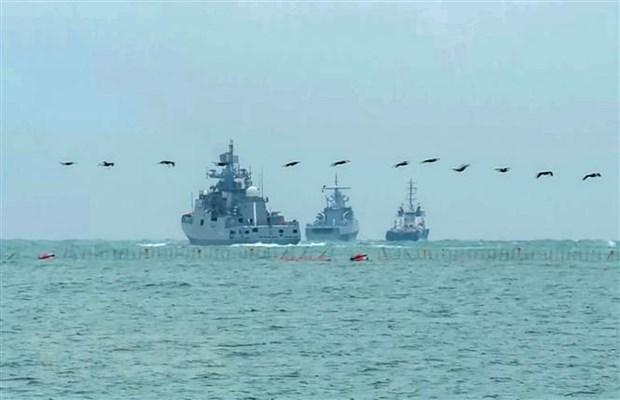MIL_Ship: (181, 135, 333, 254), (302, 171, 364, 246), (383, 176, 433, 244)
